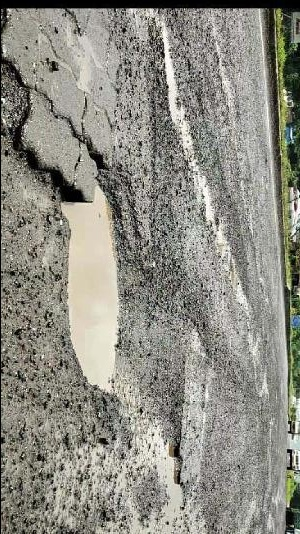pothole: (56, 141, 127, 396)
